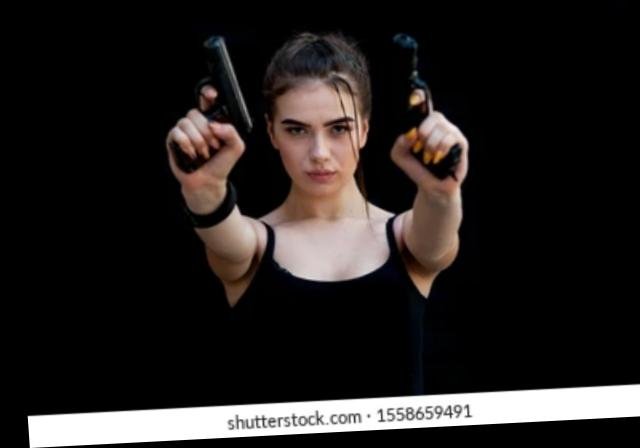other: (168, 29, 467, 388)
